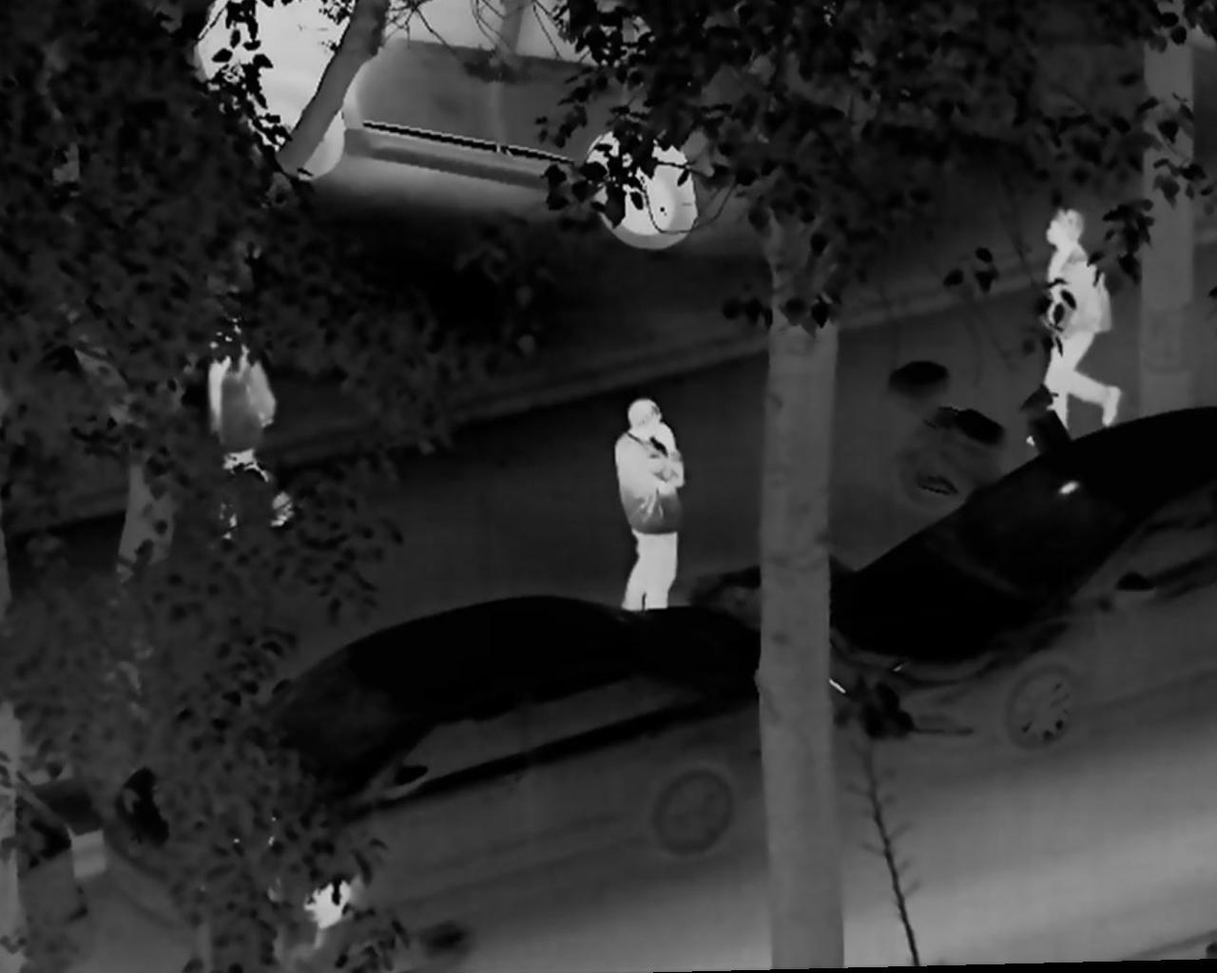person: (1024, 203, 1126, 454), (203, 319, 299, 551), (604, 396, 696, 614), (286, 868, 365, 945)
